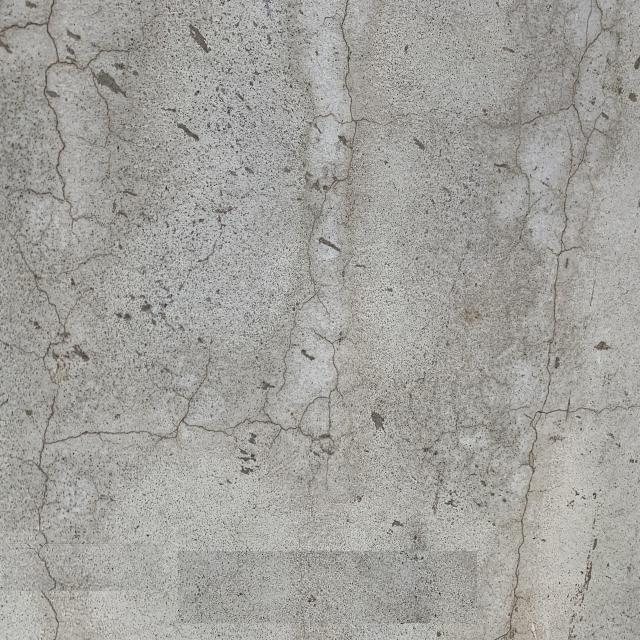horizontal crack: (178, 551, 477, 623), (6, 546, 163, 590)
